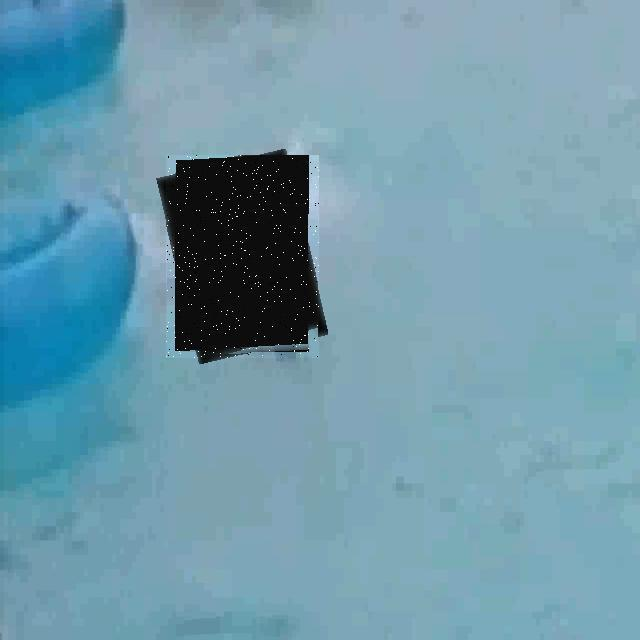Out of Water: (166, 155, 319, 358)
